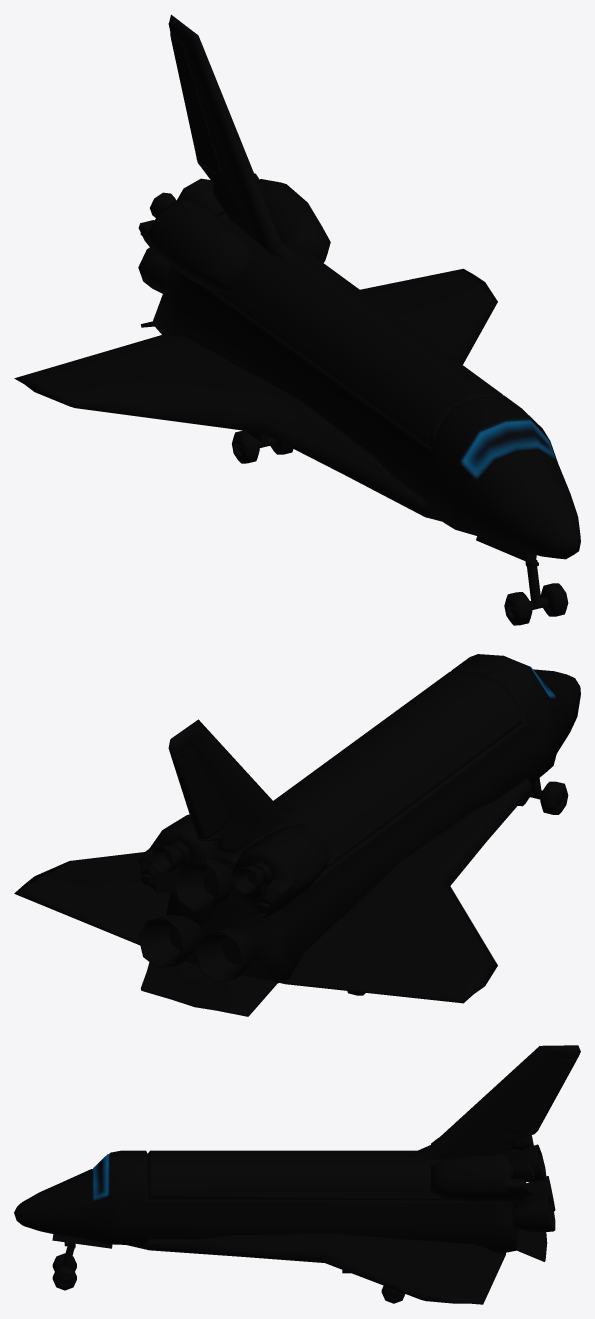
The model's file is Shuttle_Text.fbx.
3 views of the same model, one above another, from view 1: azimuth 30°, elevation 25°; view 2: azimuth 150°, elevation 25°; view 3: azimuth 270°, elevation 25° (orthographic). The views are drawn at different scales.
Parts seen in each view (by area): view 1: UVD_Shuttle:pPlane3, pCube3; view 2: UVD_Shuttle:pPlane3, pCube3; view 3: UVD_Shuttle:pPlane3, pCube3.
Boxes of the visible parts, bbox=[...] form: UVD_Shuttle:pPlane3: bbox=[14, 14, 580, 559]; pCube3: bbox=[232, 430, 568, 625]; UVD_Shuttle:pPlane3: bbox=[14, 654, 580, 1016]; pCube3: bbox=[347, 778, 568, 995]; UVD_Shuttle:pPlane3: bbox=[14, 1045, 580, 1304]; pCube3: bbox=[52, 1234, 405, 1303].
Bounding box in the file's own units: 6.09 × 4.37 × 9.45.
